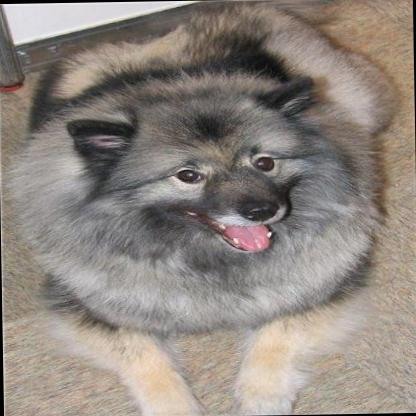keeshond: (1, 0, 407, 416)
